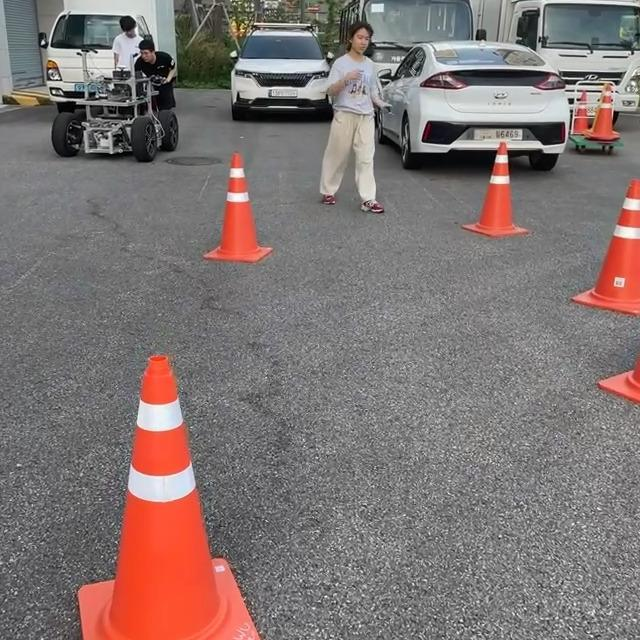fallen_object: (40, 333, 298, 640), (442, 117, 570, 283), (163, 123, 289, 284), (584, 147, 640, 389), (555, 67, 622, 150)
